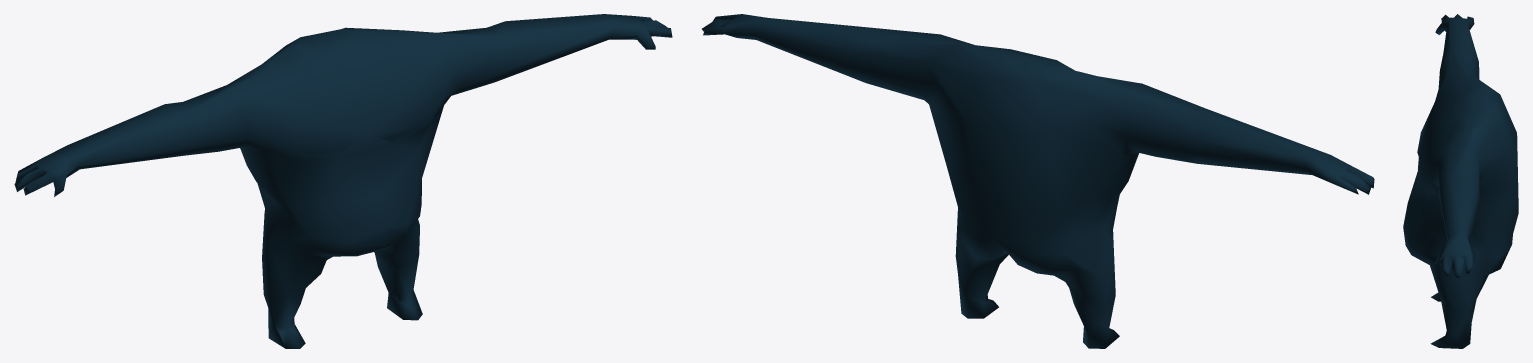
Rendered from melee_enemy_low.fbx.
3 renders of one model, left to right at view 1: azimuth 30°, elevation 25°; view 2: azimuth 150°, elevation 25°; view 3: azimuth 270°, elevation 25°, orthographic. The views are drawn at different scales.
Visible parts, largest first — view 1: body_low; view 2: body_low; view 3: body_low.
Part boxes in pixels (x1,y1,x2,y2): body_low: (14,14,672,348); body_low: (702,14,1374,348); body_low: (1403,14,1518,348).
Bounding box in the file's own units: 1273 × 516 × 242.
